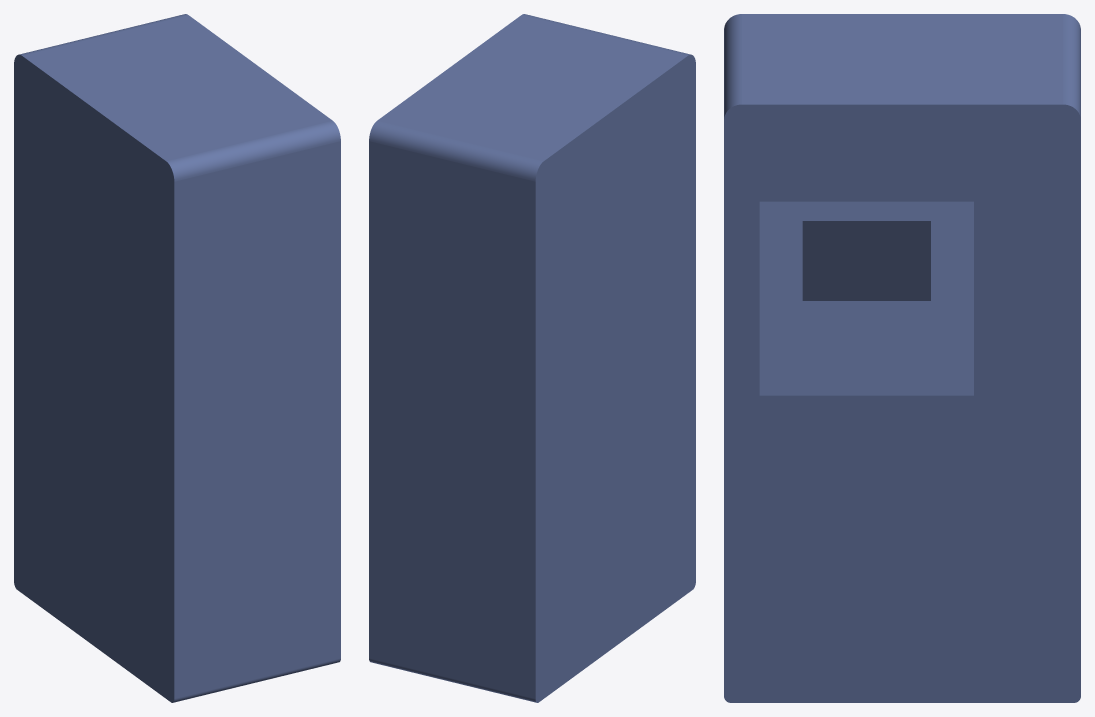
File: TicketVendingMachine.fbx
The picture shows the model from 3 angles, left to right: view 1: azimuth 30°, elevation 25°; view 2: azimuth 150°, elevation 25°; view 3: azimuth 270°, elevation 25°; orthographic projection. The views are drawn at different scales.
Parts seen in each view (by area): view 1: Mesh_0; view 2: Mesh_0; view 3: Mesh_0.
Part boxes in pixels (left/top/right/bottom): Mesh_0: left=14, top=14, right=340, bottom=702; Mesh_0: left=369, top=14, right=695, bottom=702; Mesh_0: left=724, top=14, right=1080, bottom=702.
Size of the model in its own units: 60 by 185 by 100.
